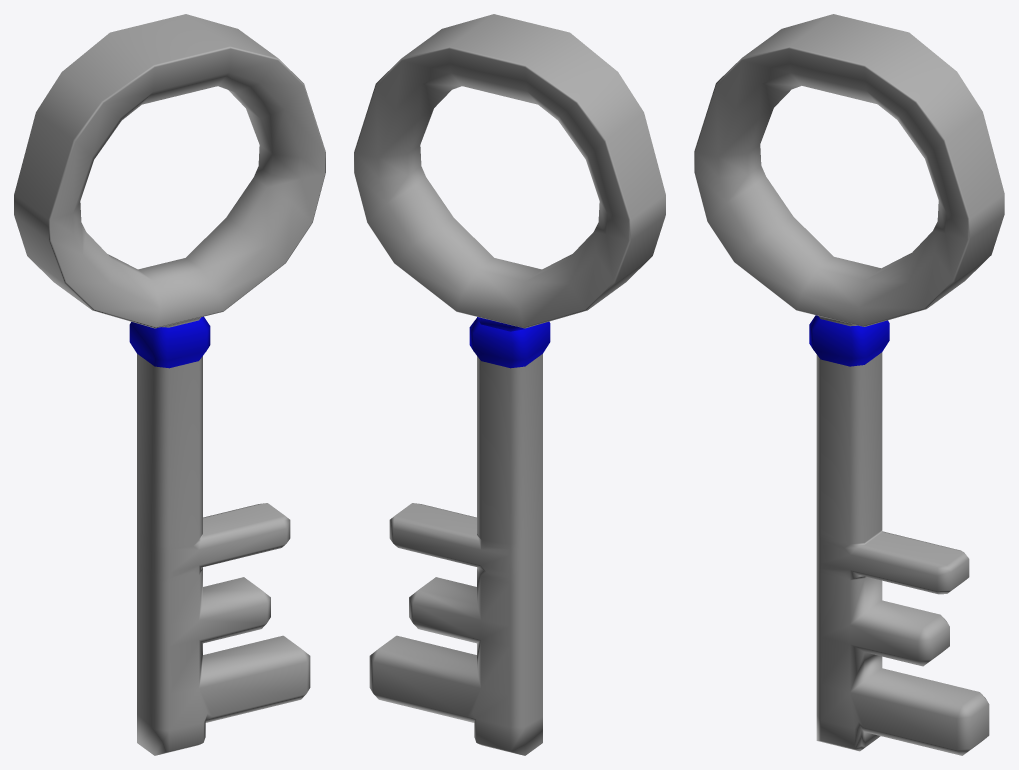
The model's file is key 1.fbx.
3 views of the same model, side by side, from view 1: azimuth 30°, elevation 25°; view 2: azimuth 150°, elevation 25°; view 3: azimuth 330°, elevation 25° (orthographic).
Parts seen in each view (by area): view 1: de_key1; view 2: de_key1; view 3: de_key1.
Part boxes in pixels (x1,y1,x2,y2): de_key1: (14,14,325,755); de_key1: (354,14,665,755); de_key1: (694,14,1004,755).
Bounding box in the file's own units: 4.39 × 10.65 × 1.26.
